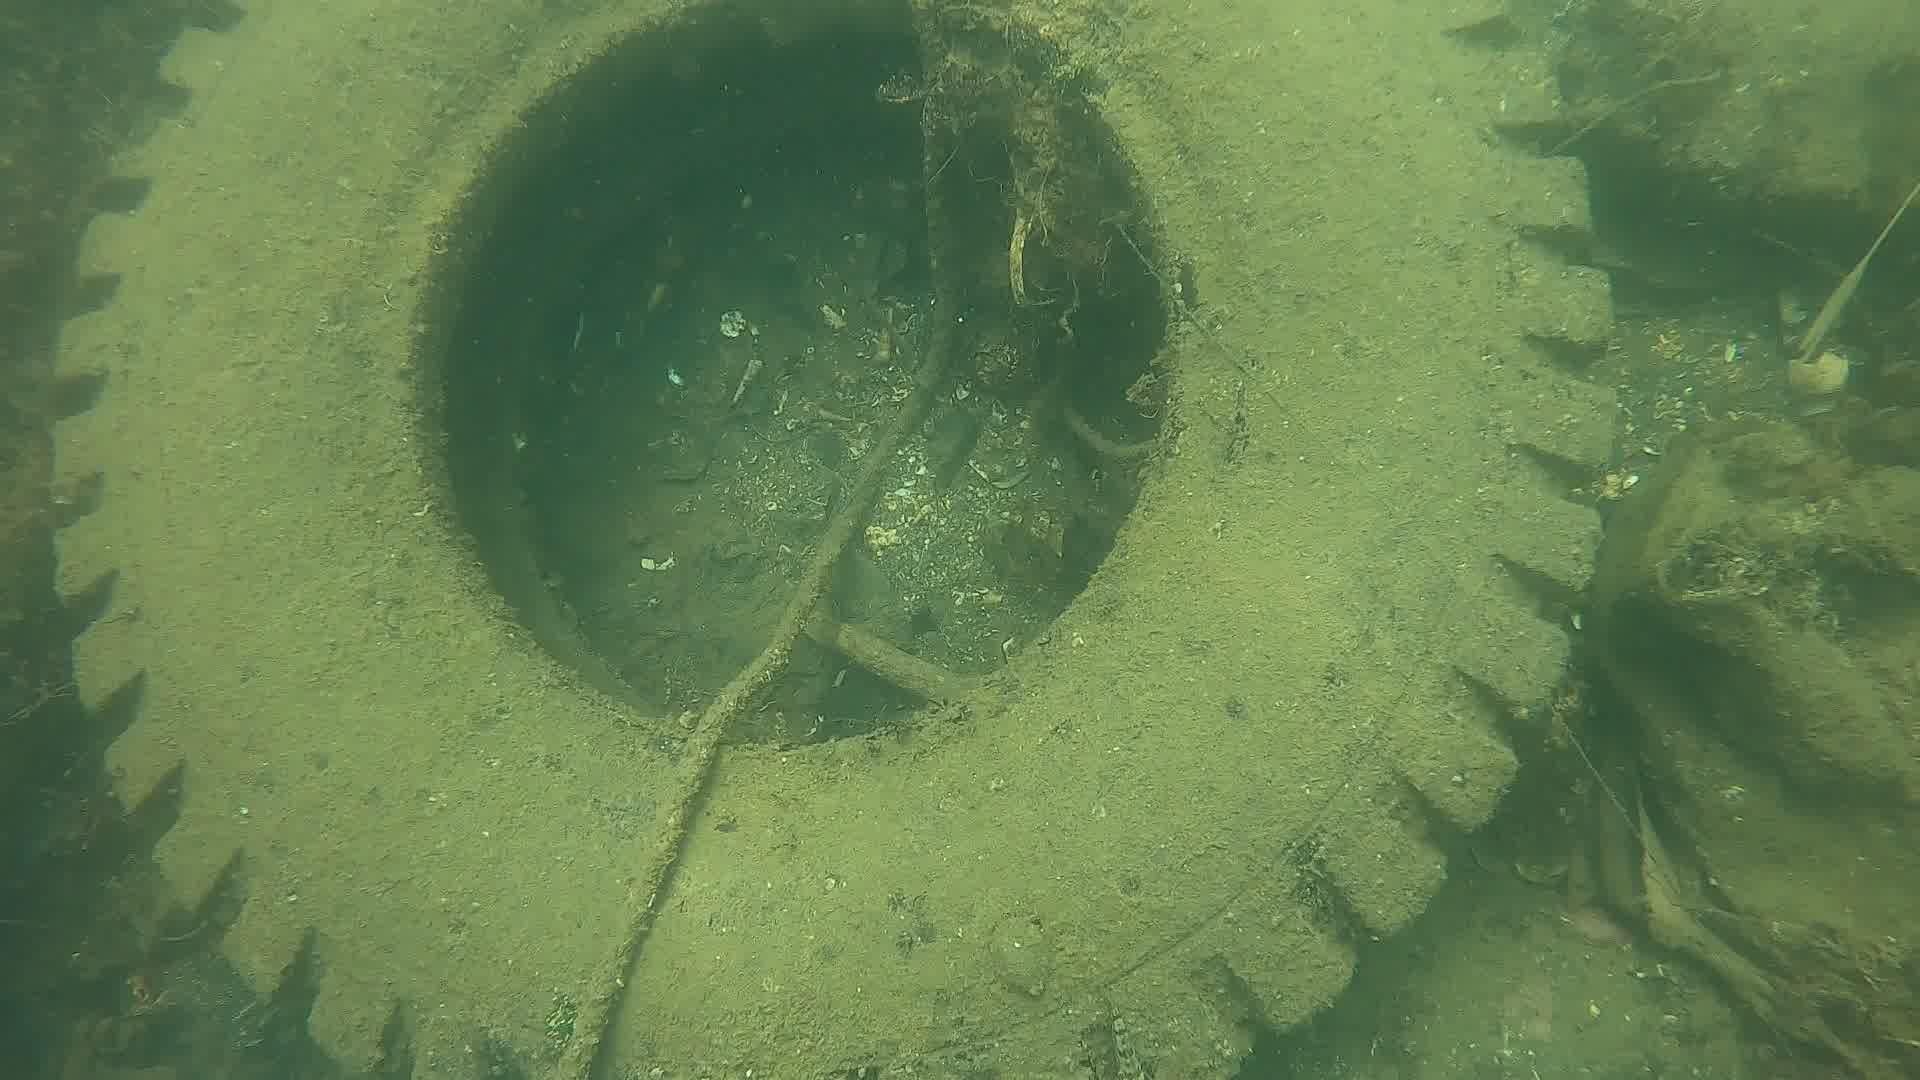rope: (551, 0, 956, 1080)
tire: (49, 0, 1611, 1080)
